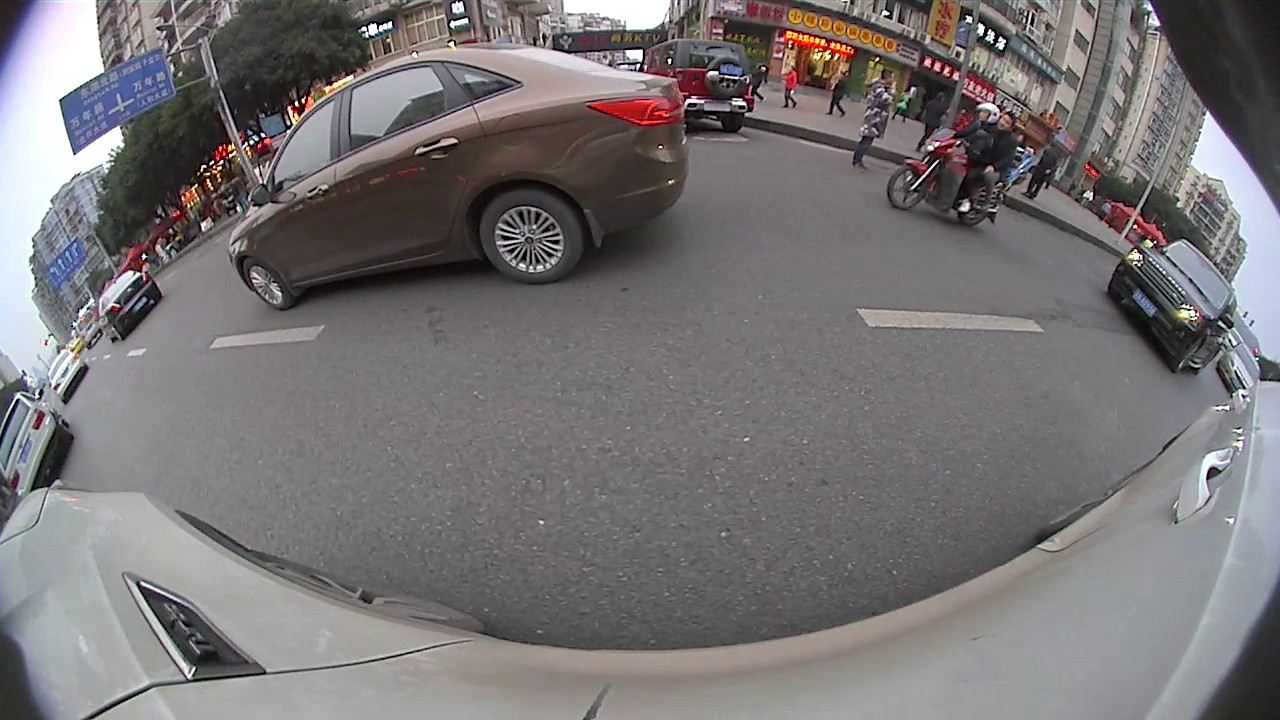car: (223, 38, 691, 315), (1102, 239, 1239, 375), (638, 38, 758, 137), (1, 384, 78, 501), (95, 265, 164, 344), (45, 344, 91, 403), (1216, 338, 1265, 389)
front: (239, 253, 295, 313), (882, 159, 930, 214)
person: (857, 60, 895, 170)
rear: (475, 184, 587, 287), (950, 181, 998, 227)
rider: (885, 102, 1038, 233)
